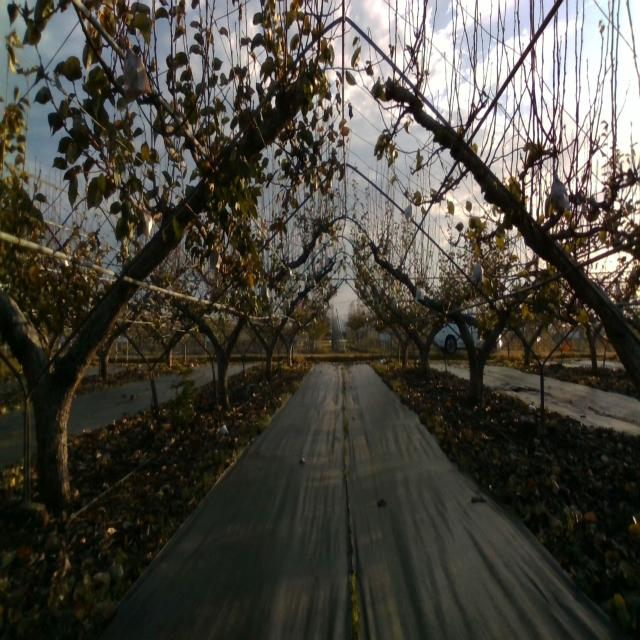pearbags: (123, 41, 151, 105), (550, 170, 570, 212), (137, 203, 153, 238), (470, 264, 483, 283)
